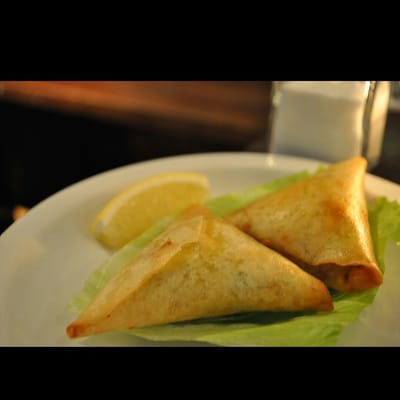pizza: (266, 82, 376, 170)
soup: (64, 205, 338, 338), (205, 156, 384, 294)
taco: (90, 172, 212, 249)
